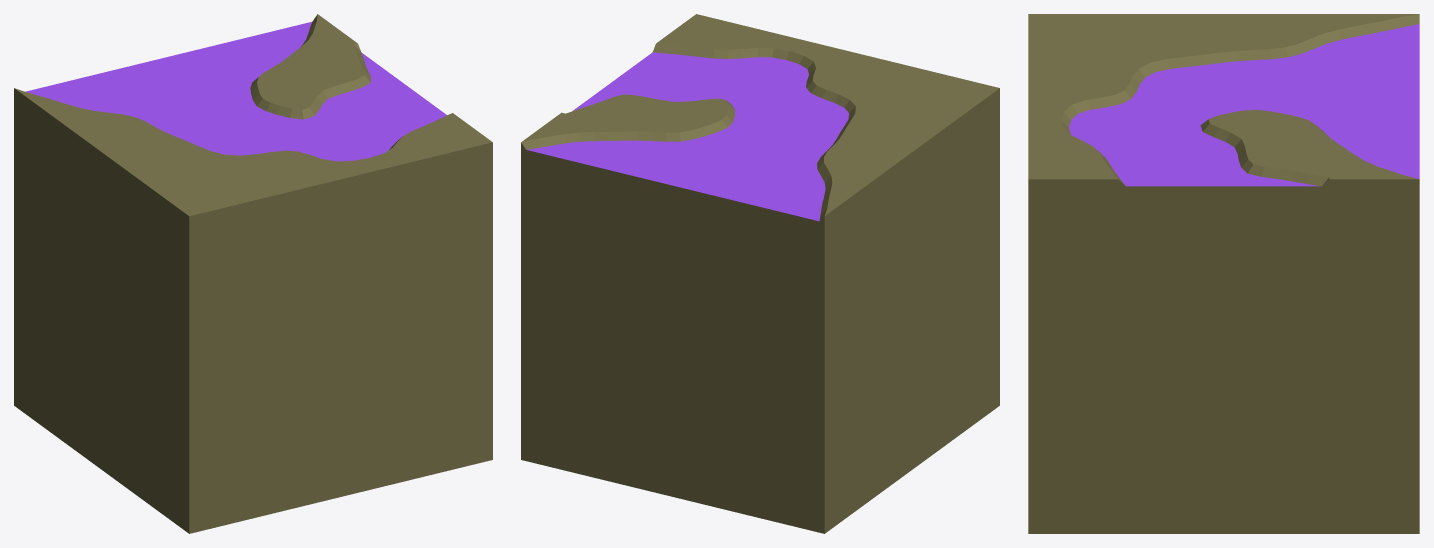
The model's file is tile_toxic_4a_02.fbx.
3 renders of one model, left to right at view 1: azimuth 30°, elevation 25°; view 2: azimuth 150°, elevation 25°; view 3: azimuth 270°, elevation 25°, orthographic. The views are drawn at different scales.
Visible parts, largest first — view 1: tile_toxic_4a_02; view 2: tile_toxic_4a_02; view 3: tile_toxic_4a_02.
Boxes of the visible parts, x1,y1,x2,y2 form: tile_toxic_4a_02: [14, 14, 492, 533]; tile_toxic_4a_02: [521, 14, 999, 533]; tile_toxic_4a_02: [1028, 14, 1419, 533].
Bounding box in the file's own units: 100 × 100 × 100.
